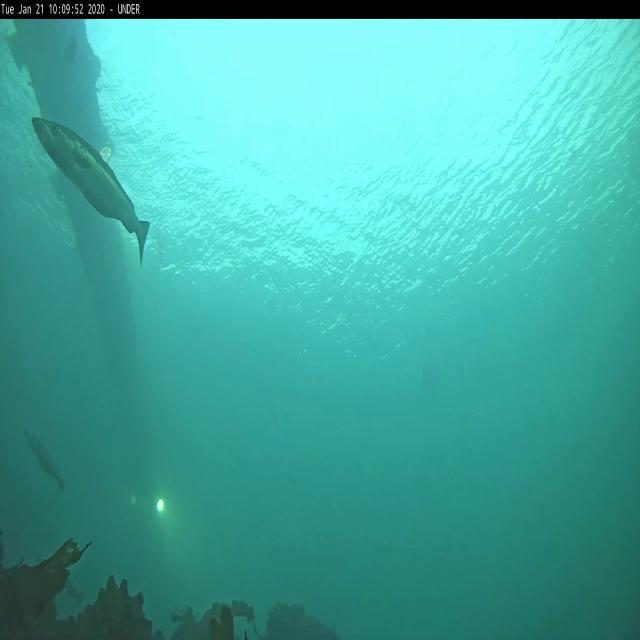fish: (30, 116, 150, 262), (22, 431, 68, 496)
